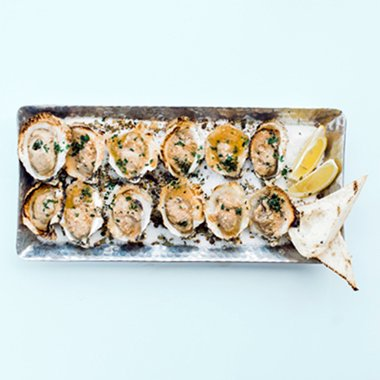sandwich: (13, 104, 359, 256)
